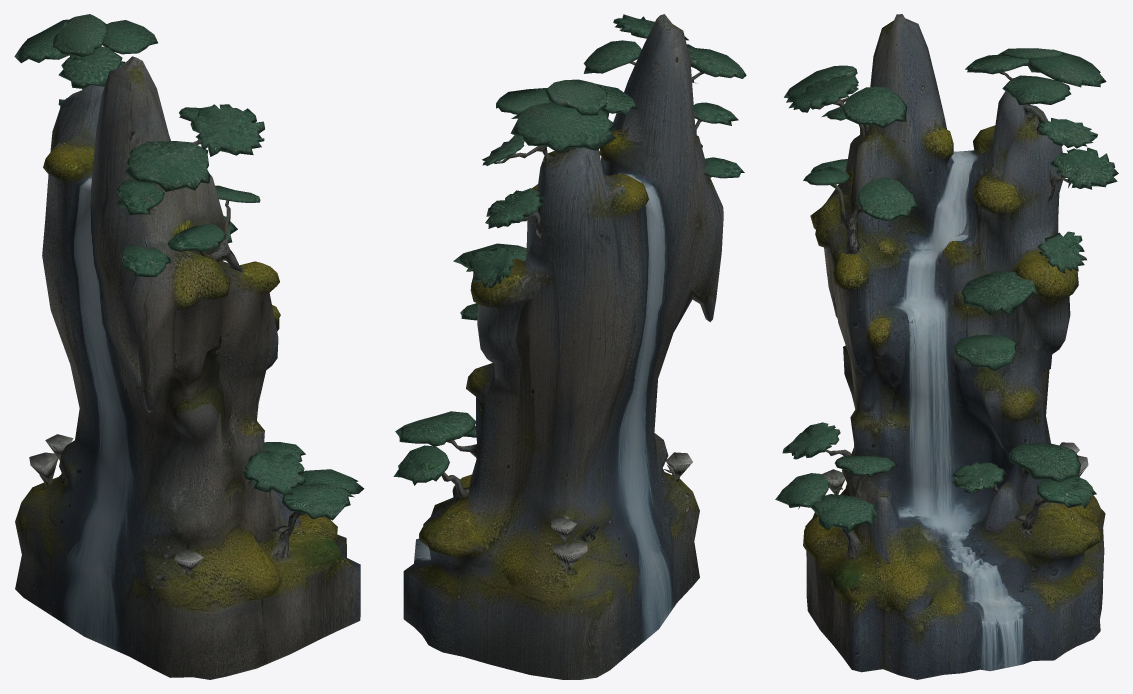
File: JiaShan_1.glb
3 views of the same model, side by side, from view 1: azimuth 30°, elevation 25°; view 2: azimuth 150°, elevation 25°; view 3: azimuth 270°, elevation 25° (orthographic). The views are drawn at different scales.
Parts seen in each view (by area): view 1: tripo_node_8b4c84a3-ec77-4ace-b3cb-049043f6241c; view 2: tripo_node_8b4c84a3-ec77-4ace-b3cb-049043f6241c; view 3: tripo_node_8b4c84a3-ec77-4ace-b3cb-049043f6241c.
Boxes of the visible parts, bbox=[...] form: tripo_node_8b4c84a3-ec77-4ace-b3cb-049043f6241c: bbox=[14, 14, 364, 679]; tripo_node_8b4c84a3-ec77-4ace-b3cb-049043f6241c: bbox=[393, 14, 746, 679]; tripo_node_8b4c84a3-ec77-4ace-b3cb-049043f6241c: bbox=[775, 14, 1118, 679].
Bounding box in the file's own units: 0.4707 × 0.998 × 0.5527.
Materials: 1 (1 with a texture image).
